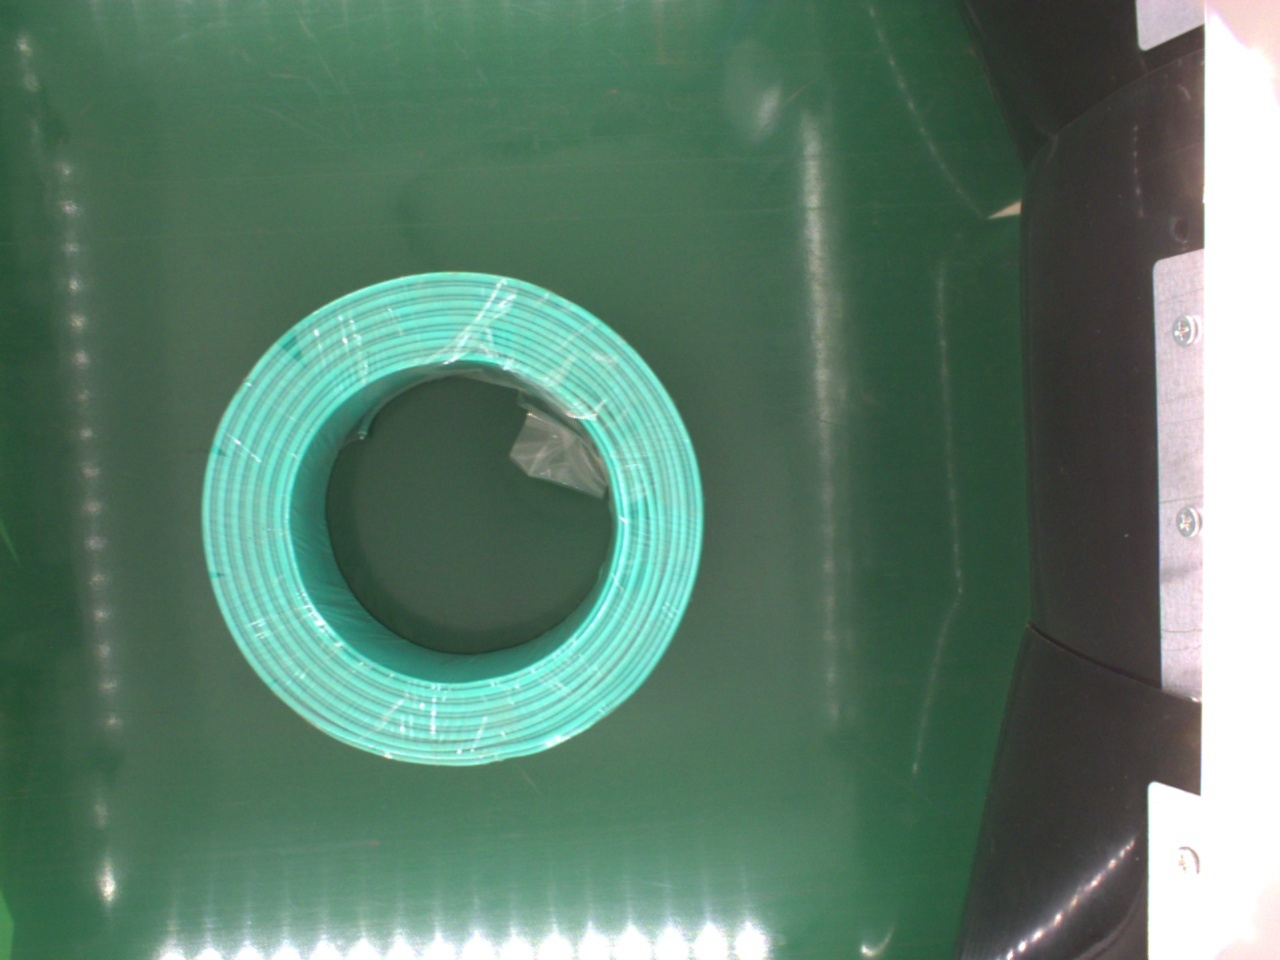green: (202, 273, 705, 771)
